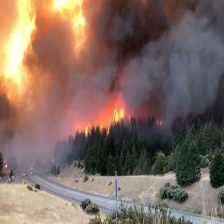fire: (1, 1, 43, 107), (51, 1, 88, 51), (81, 105, 131, 136)
smoke: (32, 1, 224, 124)
